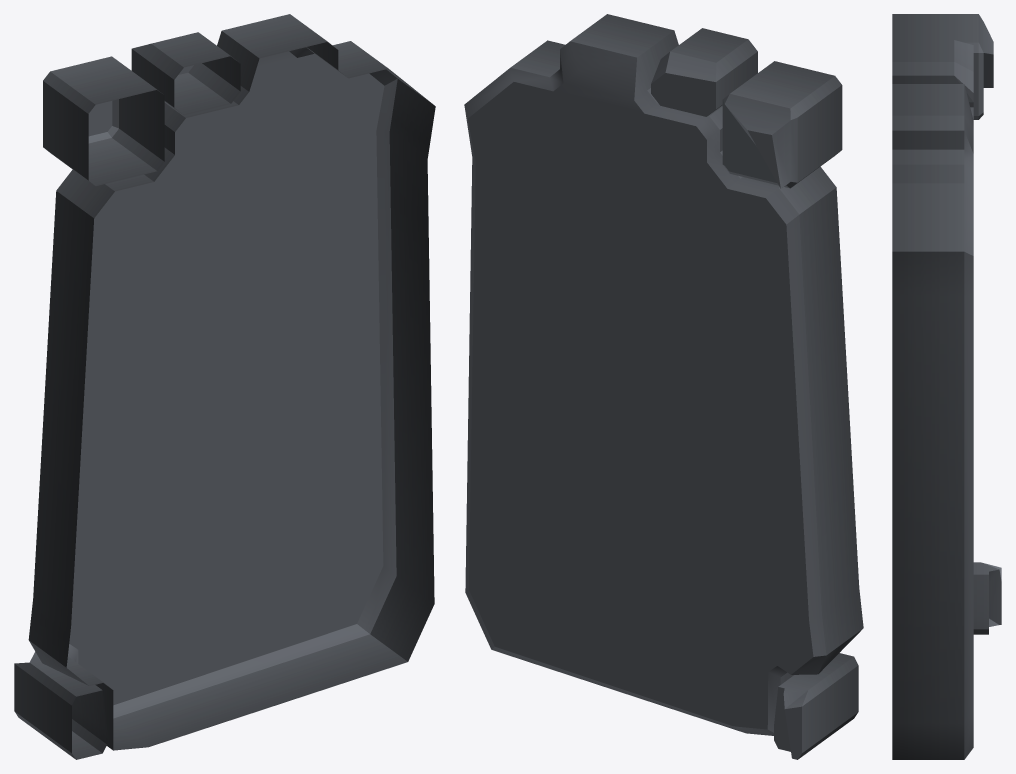
File: Tomb Base 02.FBX
3 renders of one model, left to right at view 1: azimuth 30°, elevation 25°; view 2: azimuth 150°, elevation 25°; view 3: azimuth 270°, elevation 25°, orthographic. The views are drawn at different scales.
Parts seen in each view (by area): view 1: Tomb Base 02; view 2: Tomb Base 02; view 3: Tomb Base 02.
Part boxes in pixels (x1,y1,x2,y2): Tomb Base 02: [14, 14, 435, 759]; Tomb Base 02: [464, 14, 863, 759]; Tomb Base 02: [892, 14, 1001, 759].
Size of the model in its own units: 212 by 369 by 57.41.
